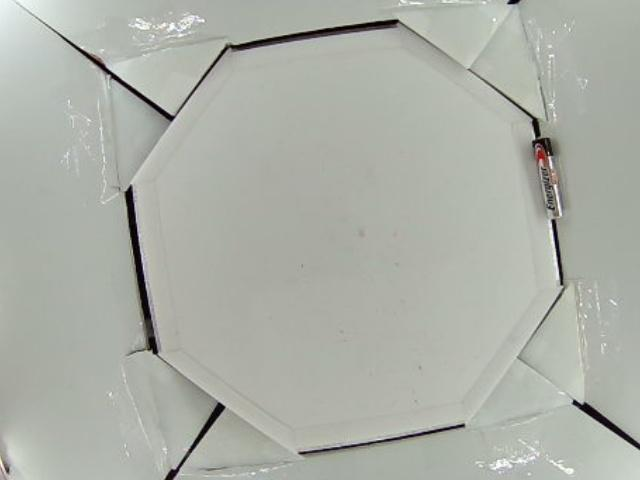Battery: (532, 137, 561, 222)
